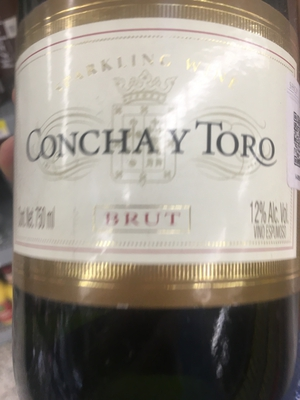brut: (15, 4, 300, 391)
